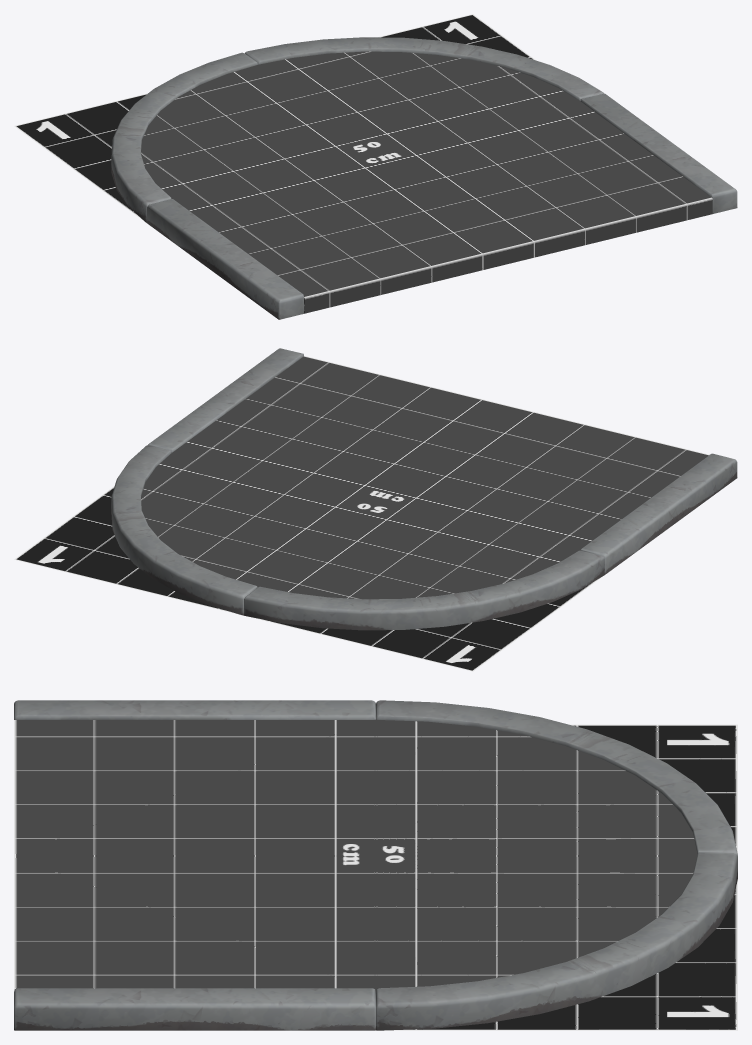
The model's file is M02SideWalk04_4.FBX.
3 renders of one model, top to bottom at view 1: azimuth 30°, elevation 25°; view 2: azimuth 150°, elevation 25°; view 3: azimuth 270°, elevation 25°, orthographic. The views are drawn at different scales.
Parts seen in each view (by area): view 1: M02SideWalk04_4; view 2: M02SideWalk04_4; view 3: M02SideWalk04_4.
Boxes of the visible parts, <box> form: M02SideWalk04_4: <box>14,14,737,319</box>; M02SideWalk04_4: <box>14,348,737,671</box>; M02SideWalk04_4: <box>14,700,737,1030</box>.
Size of what is drawn, in the model's own units: 4.5 by 0.1783 by 4.5.
